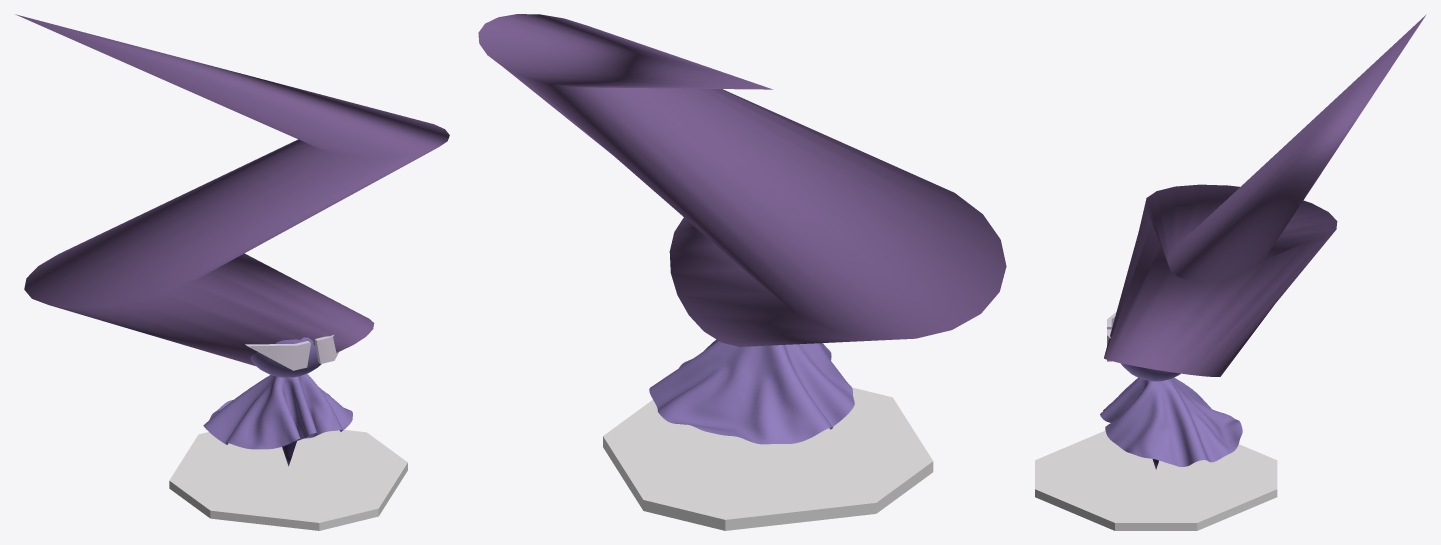
Rendered from Catharsis-transformed.glb.
3 views of the same model, side by side, from view 1: azimuth 30°, elevation 25°; view 2: azimuth 150°, elevation 25°; view 3: azimuth 270°, elevation 25° (orthographic). The views are drawn at different scales.
Visible parts, largest first — view 1: pCone1; view 2: pCone1; view 3: pCone1.
Part boxes in pixels (x1,y1,x2,y2): pCone1: [15, 14, 449, 530]; pCone1: [478, 14, 1006, 530]; pCone1: [1035, 14, 1426, 530].
Bounding box in the file's own units: 1.06 × 1.05 × 0.9326.
Materials: 1 (1 with a texture image).
